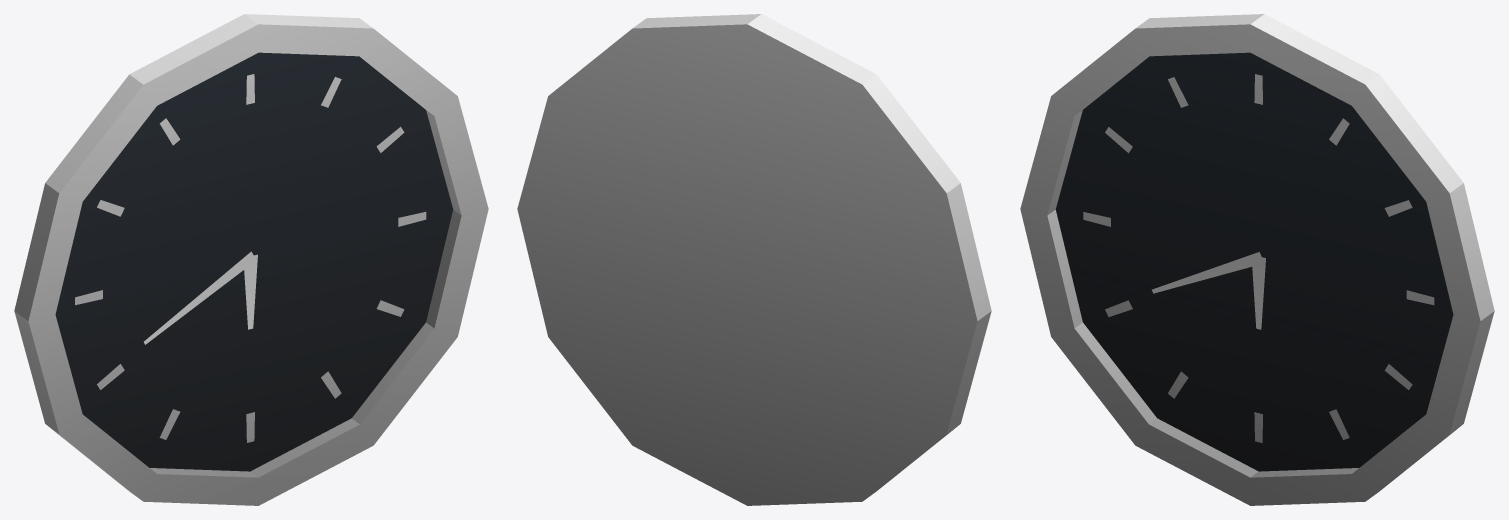
The model's file is Clock.fbx.
The picture shows the model from 3 angles, left to right: view 1: azimuth 30°, elevation 25°; view 2: azimuth 150°, elevation 25°; view 3: azimuth 330°, elevation 25°; orthographic projection.
Parts seen in each view (by area): view 1: Clock; view 2: Clock; view 3: Clock.
Part boxes in pixels (x1,y1,x2,y2): Clock: (14,14,488,505); Clock: (517,14,991,505); Clock: (1020,14,1494,505).
Size of the model in its own units: 210 by 210 by 11.2.
Materials: 1 (1 with a texture image).
